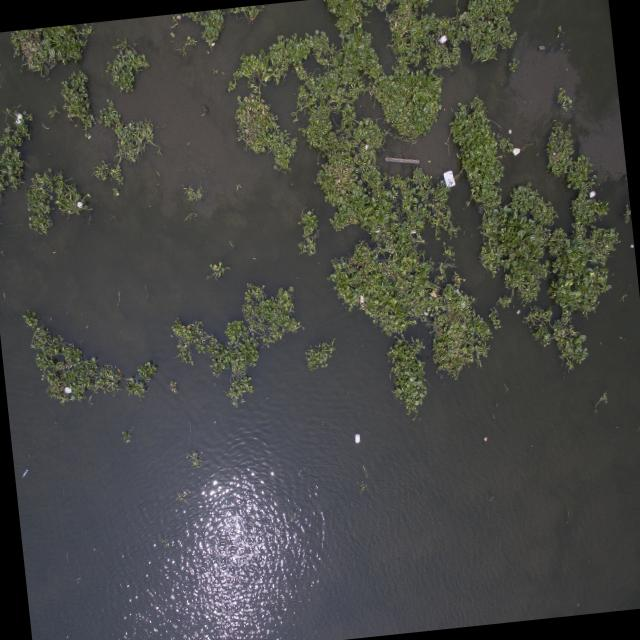Plastic: (440, 167, 456, 188), (352, 429, 362, 446), (511, 141, 521, 156), (13, 111, 24, 124), (76, 198, 84, 208)
